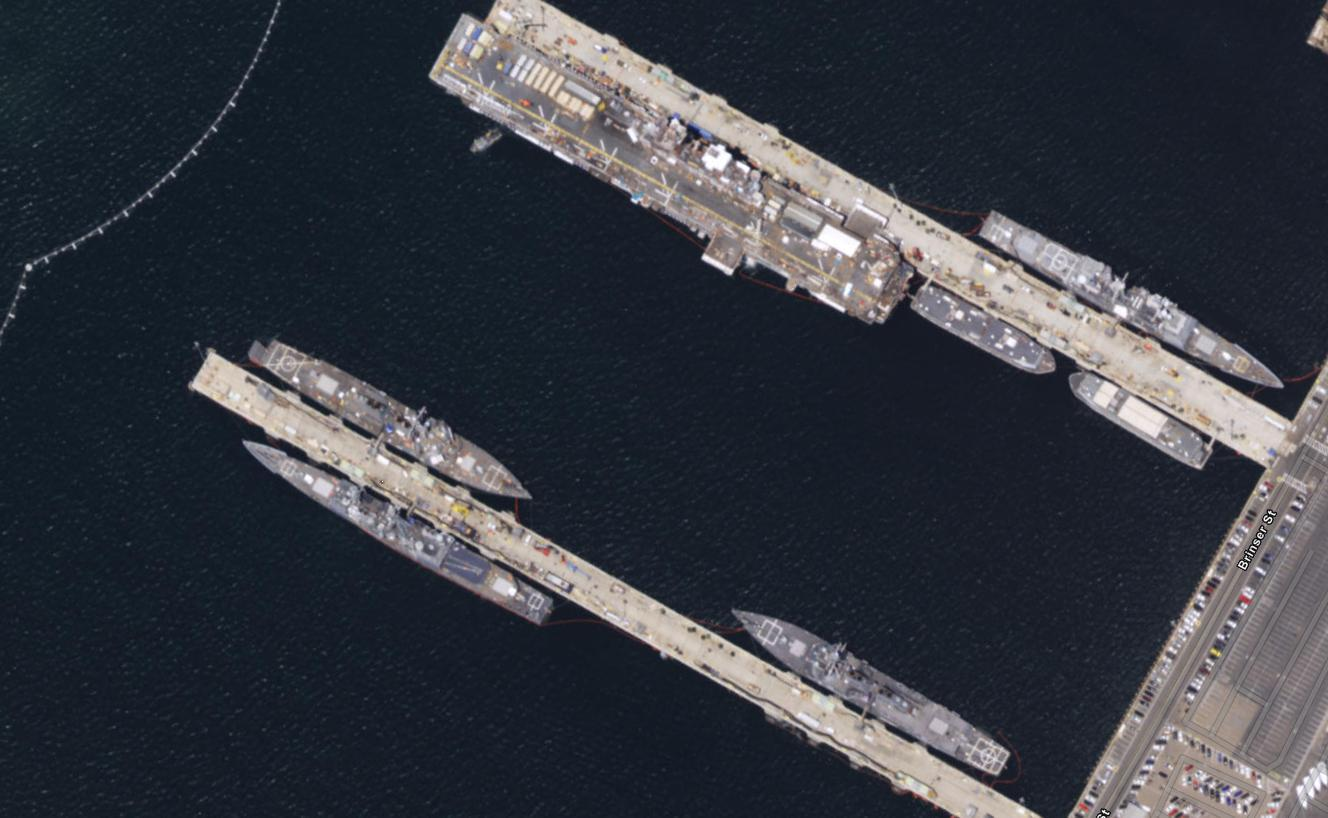cruiser: (239, 429, 562, 632)
destroyer: (978, 204, 1291, 397)
fregate: (724, 593, 1018, 781), (255, 335, 542, 502)
